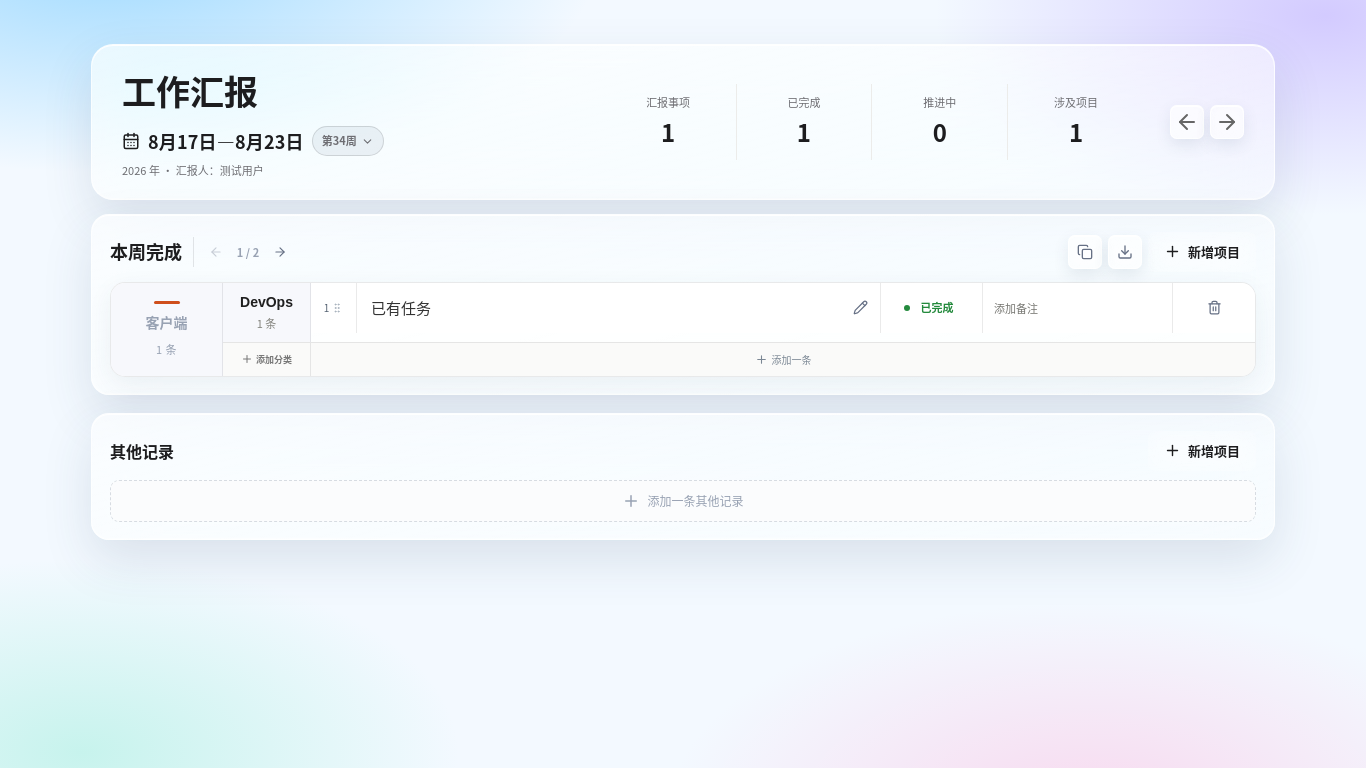
Test: interactive limits and login availability › reuses a normalized active name and blocks an archived category name
The width and height of the screenshot is (1366, 768).
Click the button "添加分类": (266, 359) [223,343,310,376]
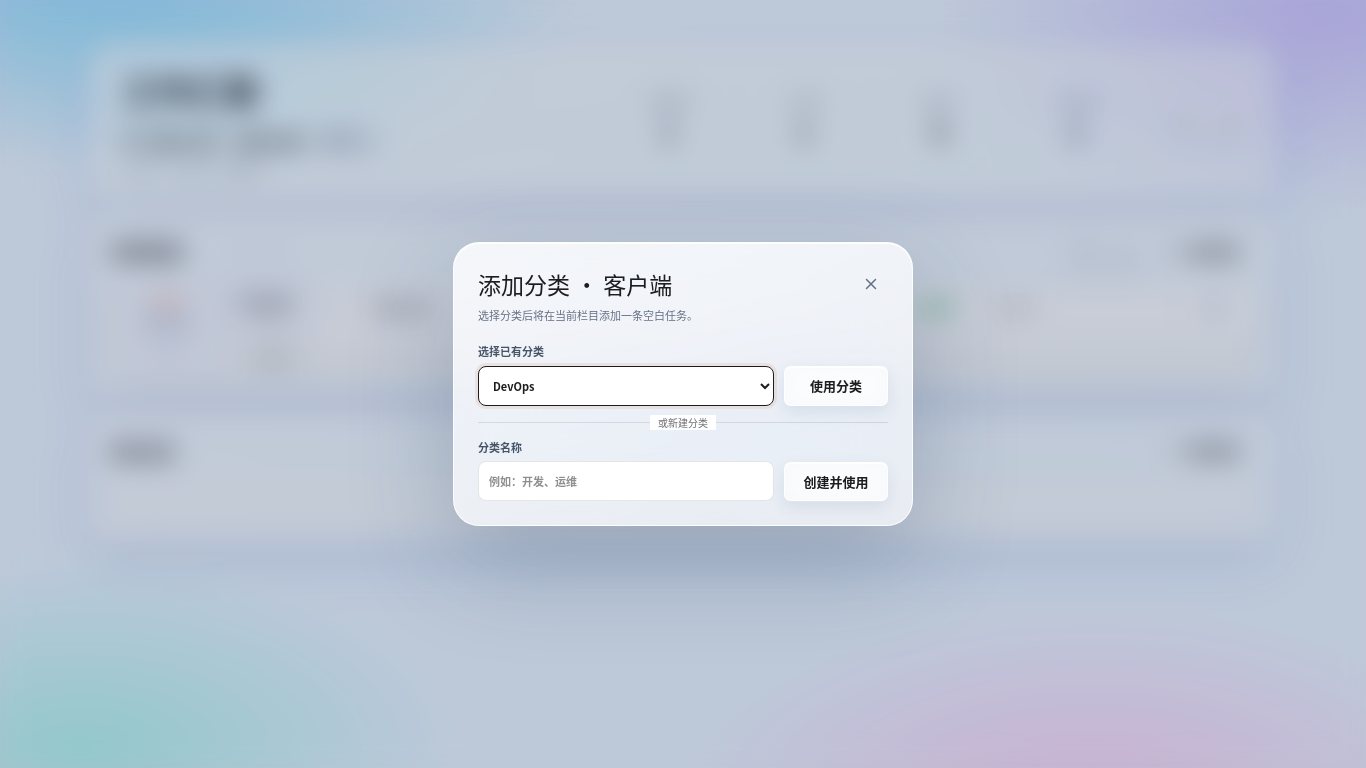
In the field labelled "分类名称": (626, 481) [478,461,774,501], type "ＤｅｖＯｐｓ"
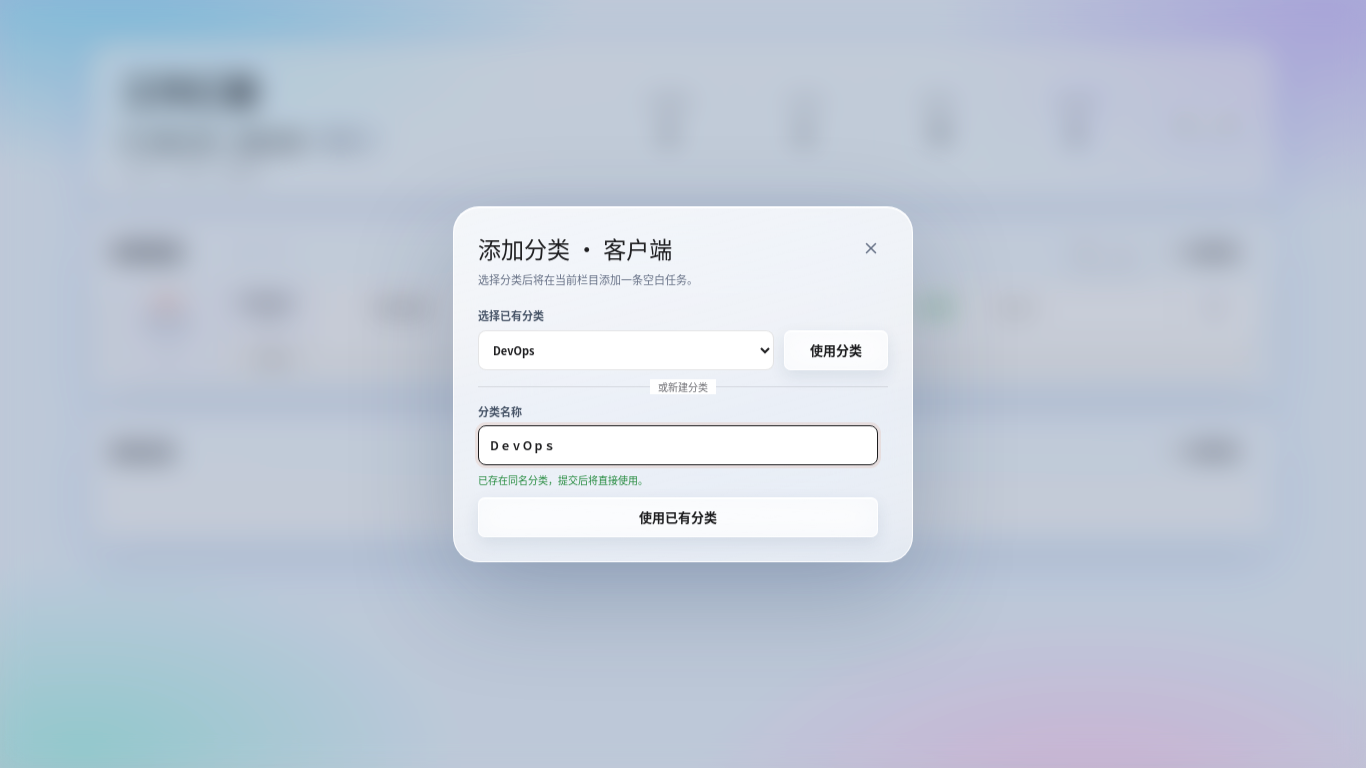
Now the text "已存在同名分类，提交后将直接使用。" is shown, box [478,472,648,487]
Click the button "使用已有分类": (678, 517) [478,497,878,537]
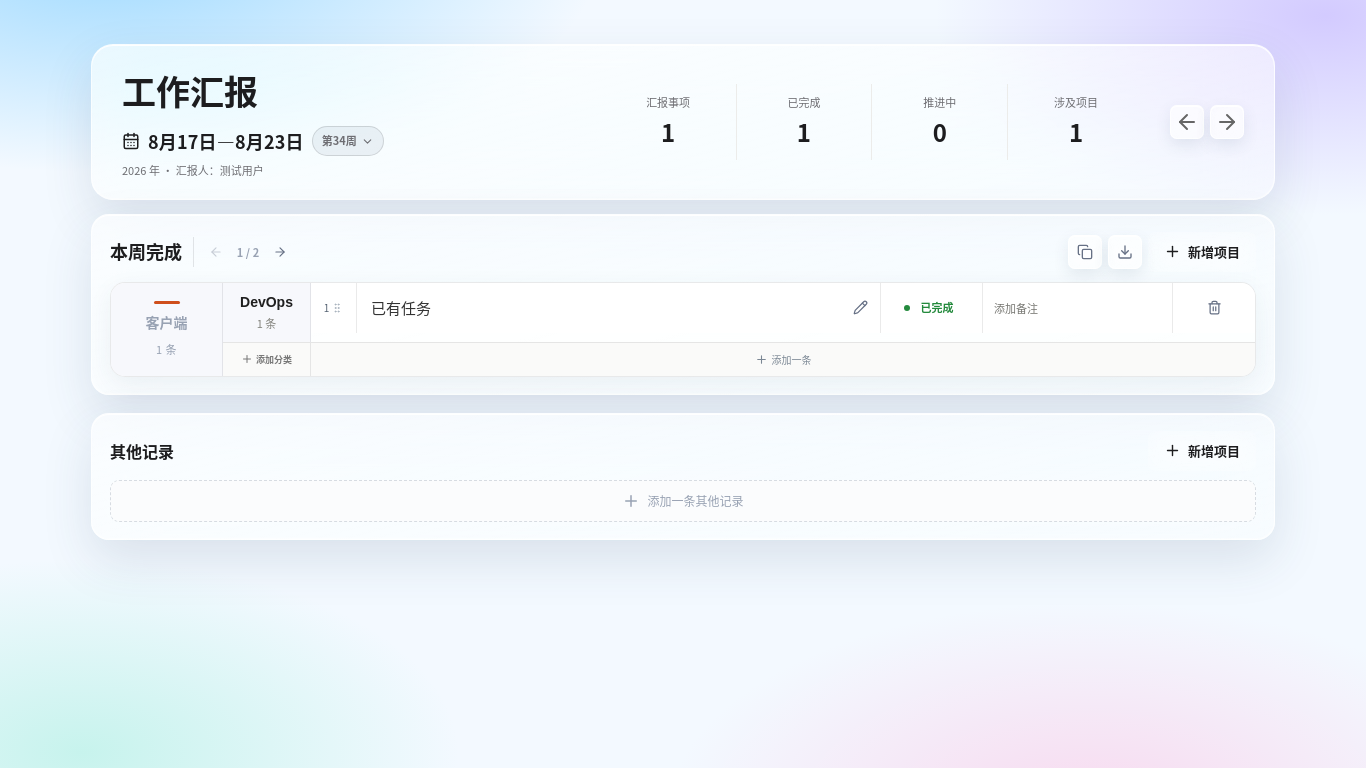
Now the heading "添加分类 · 客户端" is gone
Click the button "添加分类": (266, 359) [223,343,310,376]
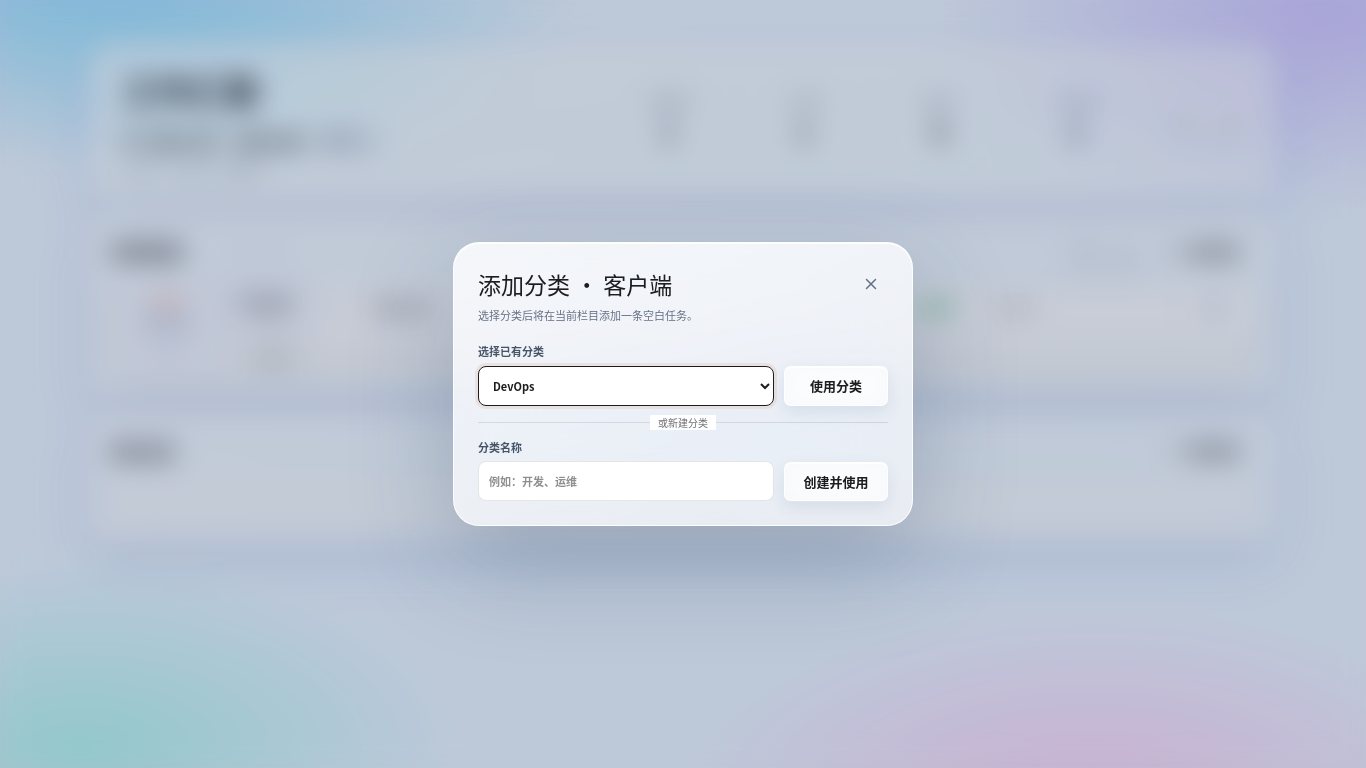
In the field labelled "分类名称": (626, 481) [478,461,774,501], type "历史分类"
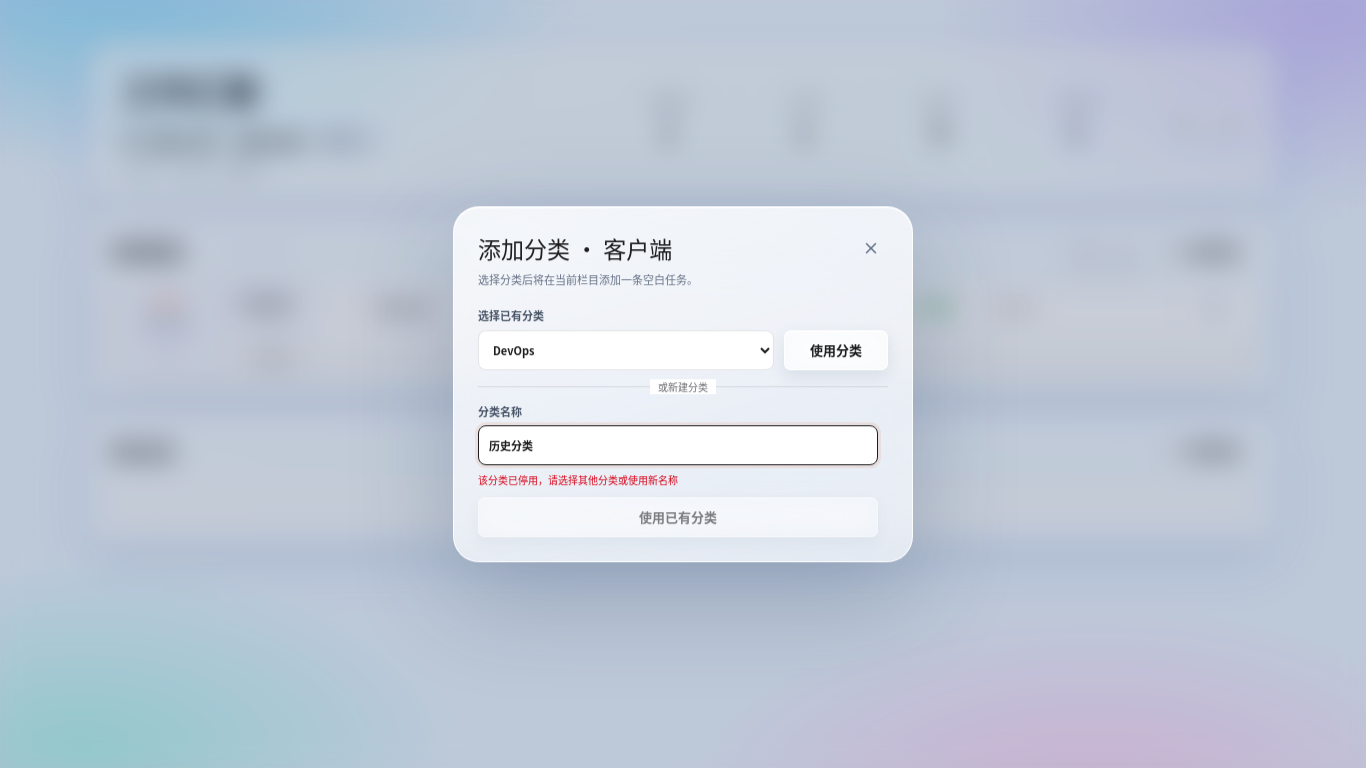
Now the message reads "该分类已停用，请选择其他分类或使用新名称", box [478,472,678,487]
Now the button "使用已有分类" is disabled, box [478,497,878,537]
